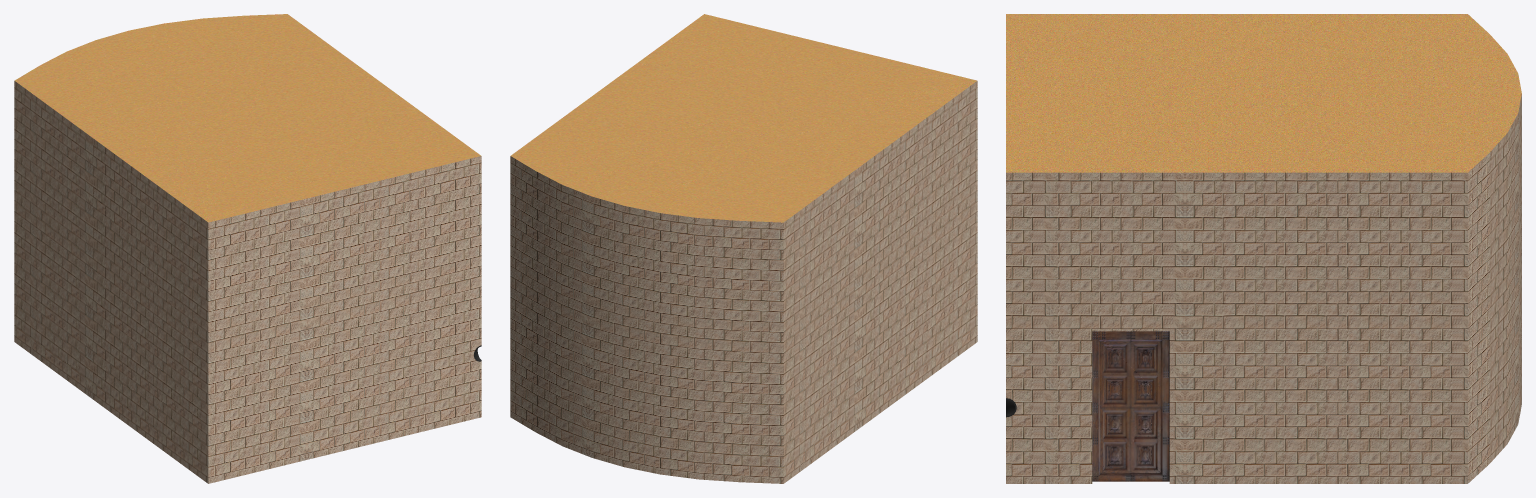
File: Kaaba02.FBX
3 renders of one model, left to right at view 1: azimuth 30°, elevation 25°; view 2: azimuth 150°, elevation 25°; view 3: azimuth 270°, elevation 25°, orthographic. The views are drawn at different scales.
Visible parts, largest first — view 1: Kaaba02; view 2: Kaaba02; view 3: Kaaba02.
Boxes of the visible parts, x1=… form: Kaaba02: x1=14, y1=14, x2=481, y2=483; Kaaba02: x1=510, y1=14, x2=977, y2=483; Kaaba02: x1=1006, y1=14, x2=1521, y2=483.
Bounding box in the file's own units: 1204 × 1653 × 1101.
Materials: 4 (3 with a texture image).
